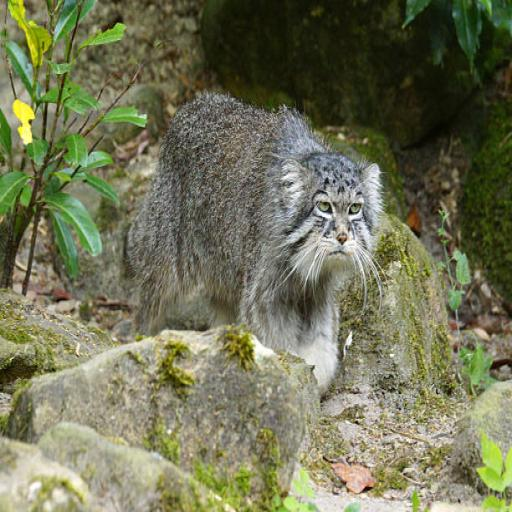manul: (125, 93, 382, 392)
